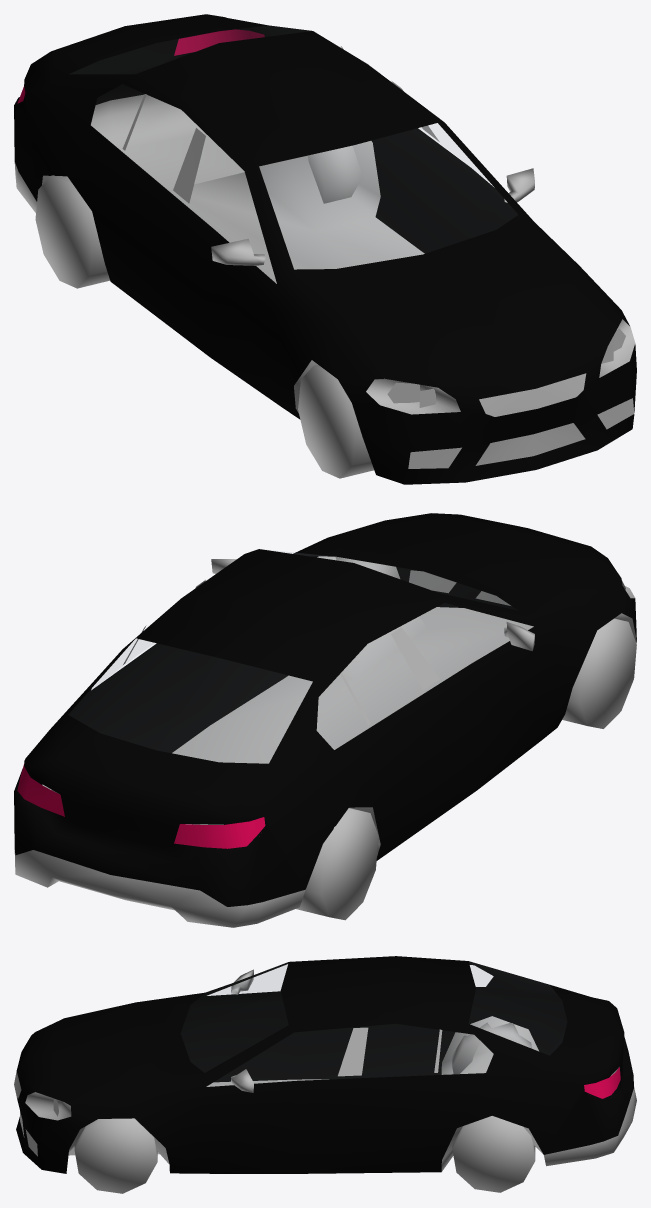
File: Car_51_LOD2.FBX
3 renders of one model, top to bottom at view 1: azimuth 30°, elevation 25°; view 2: azimuth 150°, elevation 25°; view 3: azimuth 270°, elevation 25°, orthographic. The views are drawn at different scales.
Parts seen in each view (by area): view 1: Body_051_LOD2, Matte_051_LOD2, Wheel_Back_R_LOD2, Wheel_R_LOD2, Wheel_Back_L_LOD2, Taillights_051_LOD2, Glass_051_LOD2; view 2: Body_051_LOD2, Matte_051_LOD2, Wheel_Back_R_LOD2, Wheel_R_LOD2, Taillights_051_LOD2, Glass_051_LOD2; view 3: Body_051_LOD2, Matte_051_LOD2, Wheel_L_LOD2, Wheel_Back_L_LOD2, Glass_051_LOD2, Wheel_Back_R_LOD2, Taillights_051_LOD2.
Boxes of the visible parts, x1,y1,x2,y2 form: Body_051_LOD2: [14, 14, 636, 484]; Matte_051_LOD2: [14, 46, 635, 468]; Wheel_Back_R_LOD2: [35, 175, 109, 288]; Wheel_R_LOD2: [298, 365, 373, 478]; Wheel_Back_L_LOD2: [308, 145, 363, 203]; Taillights_051_LOD2: [17, 29, 264, 103]; Glass_051_LOD2: [420, 123, 491, 184]; Body_051_LOD2: [14, 513, 636, 906]; Matte_051_LOD2: [14, 556, 636, 927]; Wheel_Back_R_LOD2: [296, 808, 378, 920]; Wheel_R_LOD2: [562, 618, 636, 728]; Taillights_051_LOD2: [17, 764, 265, 848]; Glass_051_LOD2: [91, 551, 330, 689]; Body_051_LOD2: [16, 956, 633, 1173]; Matte_051_LOD2: [14, 969, 636, 1171]; Wheel_L_LOD2: [74, 1118, 157, 1193]; Wheel_Back_L_LOD2: [452, 1116, 535, 1192]; Glass_051_LOD2: [207, 964, 492, 995]; Wheel_Back_R_LOD2: [452, 1022, 531, 1074]; Taillights_051_LOD2: [584, 1067, 620, 1098].
Size of the model in its own units: 2.11 by 1.4 by 4.88.
